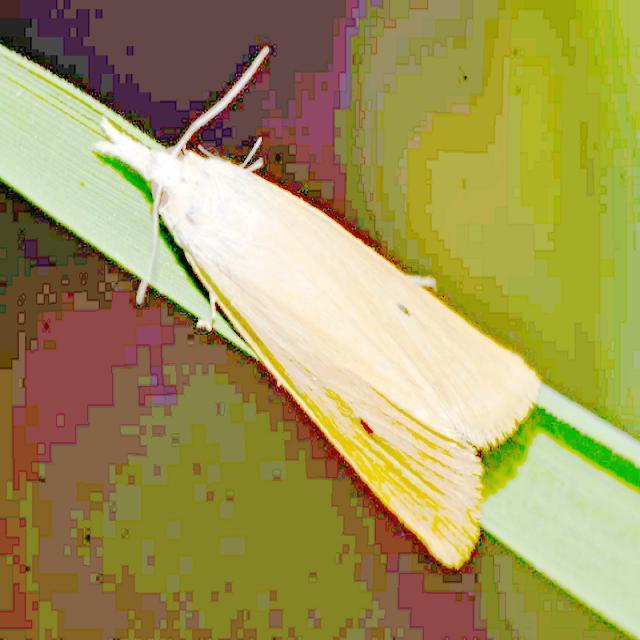stem-borer: (94, 44, 541, 570)
